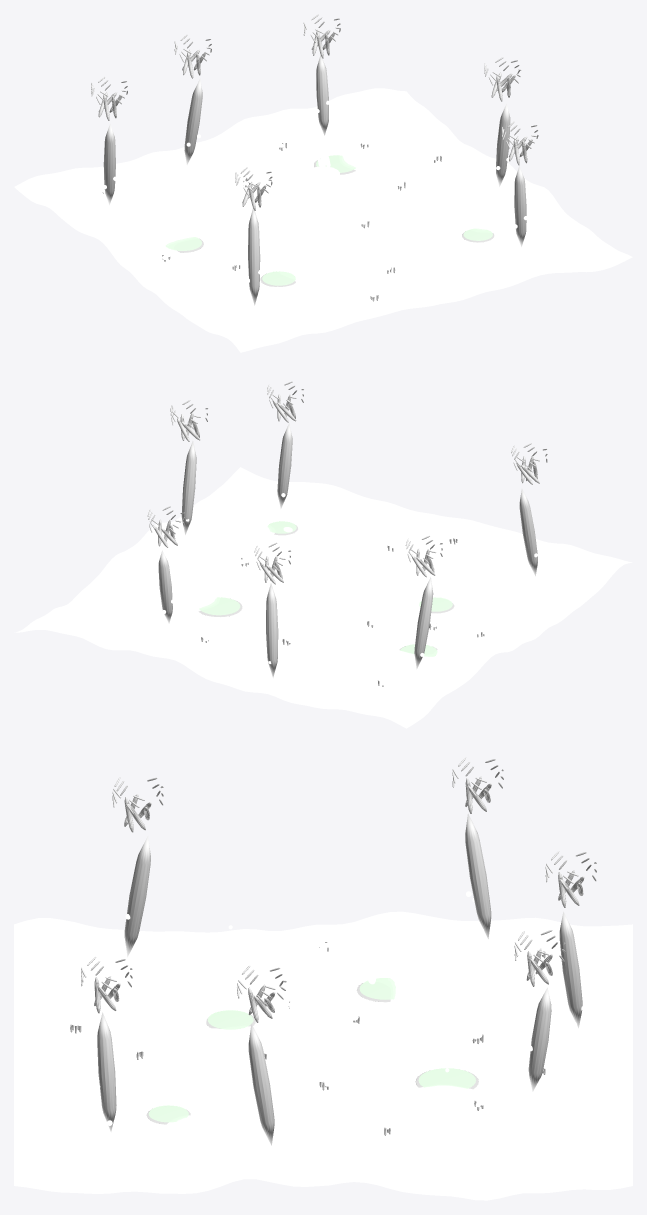
Rendered from corrupted_wilds_v3.glb.
The picture shows the model from 3 angles, top to bottom: view 1: azimuth 30°, elevation 25°; view 2: azimuth 150°, elevation 25°; view 3: azimuth 270°, elevation 25°; orthographic projection. The views are drawn at different scales.
Visible parts, largest first — view 1: cw_terrain, tree_0_t, tree_2_t, tree_4_t, tree_5_t, tree_3_t, tree_1_t, alt_b1; view 2: cw_terrain, tree_2_t, tree_4_t, tree_1_t, tree_0_t, tree_5_t, tree_3_t, mire_1_p, alt_b1; view 3: cw_terrain, tree_1_t, tree_4_t, tree_0_t, tree_5_t, tree_2_t, tree_3_t, alt_b1, mire_1_p, mire_0_p, alt_b3, alt_b2 (+1 smaller).
Boxes of the visible parts, left/top/right/bottom form: cw_terrain: left=14, top=88, right=632, bottom=352; tree_0_t: left=248, top=208, right=260, bottom=305; tree_2_t: left=184, top=78, right=202, bottom=164; tree_4_t: left=496, top=103, right=510, bottom=186; tree_5_t: left=514, top=165, right=526, bottom=246; tree_3_t: left=316, top=55, right=328, bottom=135; tree_1_t: left=103, top=124, right=115, bottom=205; alt_b1: left=298, top=181, right=348, bottom=198; cw_terrain: left=14, top=467, right=632, bottom=728; tree_2_t: left=266, top=583, right=278, bottom=677; tree_4_t: left=181, top=441, right=196, bottom=534; tree_1_t: left=414, top=577, right=433, bottom=669; tree_0_t: left=519, top=489, right=537, bottom=576; tree_5_t: left=277, top=423, right=292, bottom=508; tree_3_t: left=158, top=550, right=172, bottom=623; mire_1_p: left=199, top=597, right=240, bottom=615; alt_b1: left=298, top=557, right=348, bottom=574; cw_terrain: left=14, top=911, right=632, bottom=1200; tree_1_t: left=465, top=813, right=491, bottom=938; tree_4_t: left=248, top=1023, right=274, bottom=1145; tree_0_t: left=124, top=836, right=150, bottom=957; tree_5_t: left=97, top=1012, right=116, bottom=1131; tree_2_t: left=559, top=911, right=582, bottom=1028; tree_3_t: left=528, top=987, right=551, bottom=1091; alt_b1: left=289, top=999, right=357, bottom=1022; mire_1_p: left=418, top=1068, right=475, bottom=1088; mire_0_p: left=207, top=1010, right=253, bottom=1029; alt_b3: left=300, top=979, right=346, bottom=999; alt_b2: left=295, top=990, right=351, bottom=1010.
Size of the model in its own units: 20 by 7.55 by 20.
